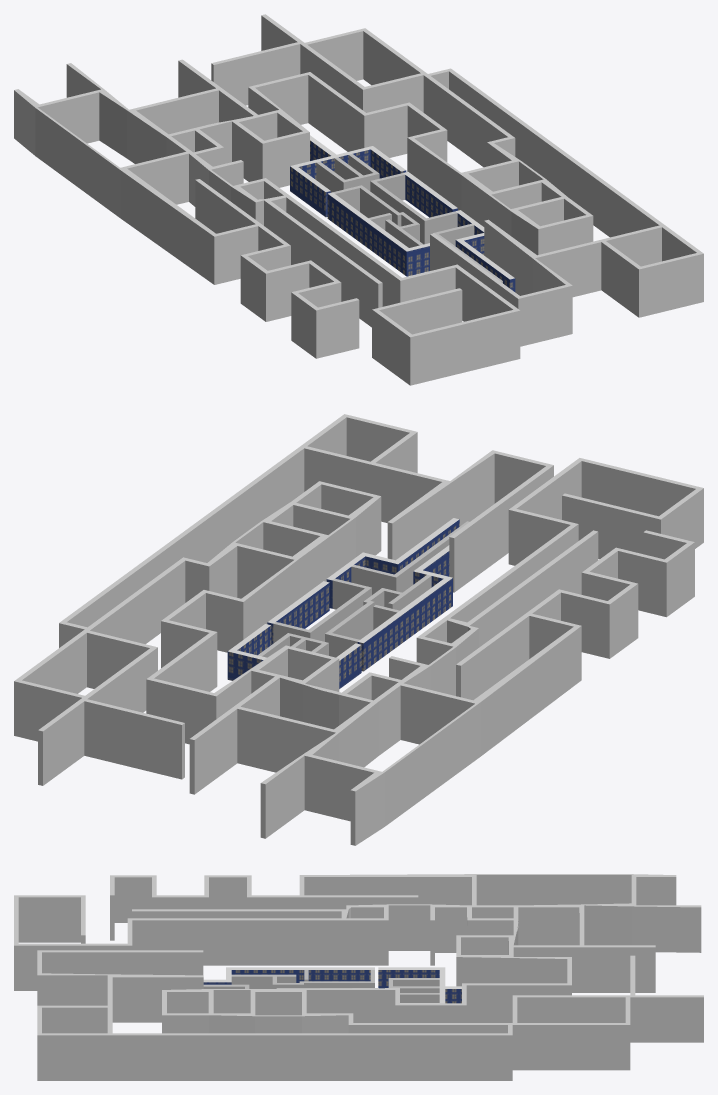
File: CityMap.applied.fbx
The picture shows the model from 3 angles, top to bottom: view 1: azimuth 30°, elevation 25°; view 2: azimuth 150°, elevation 25°; view 3: azimuth 270°, elevation 25°; orthographic projection. The views are drawn at different scales.
Visible parts, largest first — view 1: Plane, Plane.002, Plane.003; view 2: Plane, Plane.002, Plane.003; view 3: Plane, Plane.002, Plane.003.
Part boxes in pixels (x1,y1,x2,y2): Plane: (14,14,703,385); Plane.002: (290,135,515,291); Plane.003: (316,154,502,282); Plane: (14,414,703,845); Plane.002: (227,518,459,688); Plane.003: (258,521,469,657); Plane: (14,874,703,1080); Plane.002: (203,967,461,1003); Plane.003: (203,970,439,1002).
Size of the model in its own units: 160587 by 21176 by 290205.
